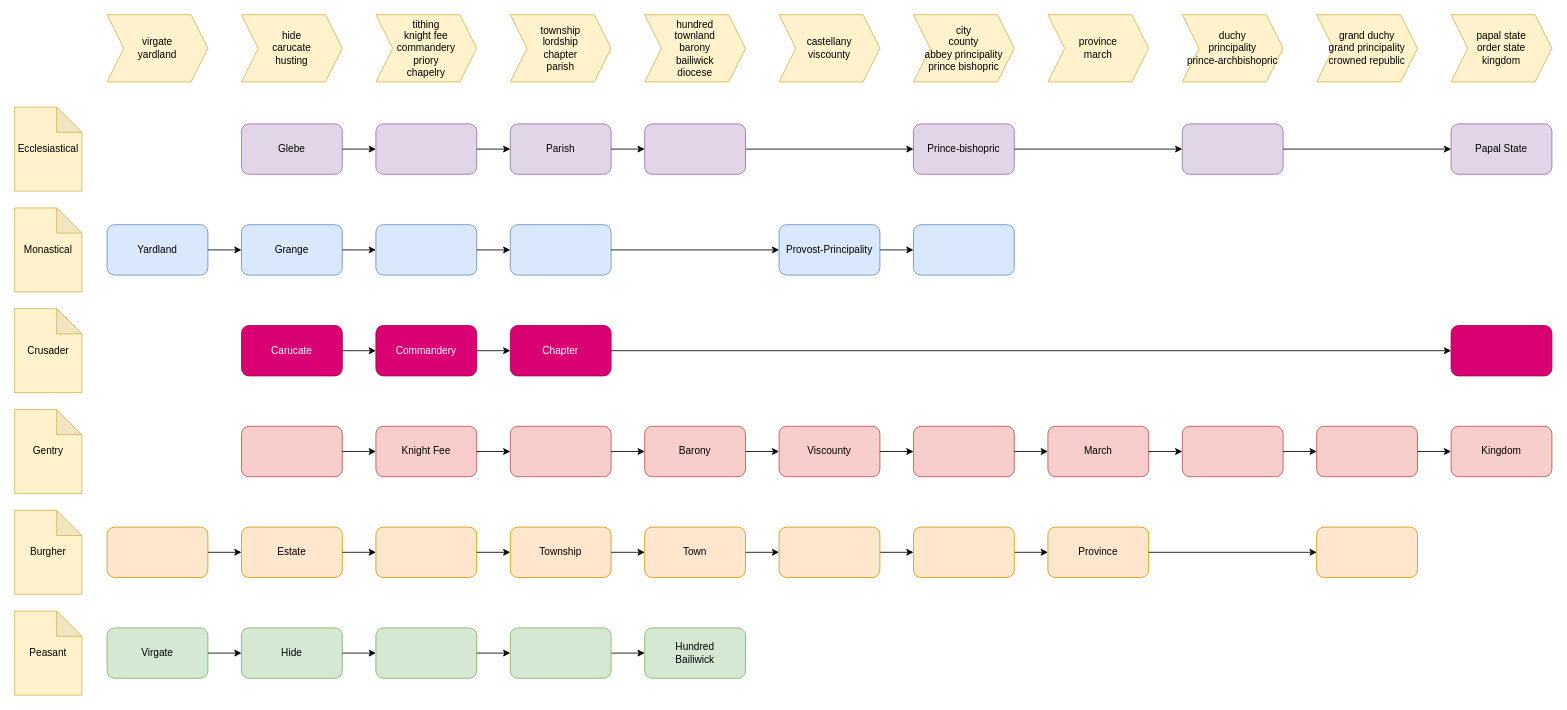
This 1567x710 diagram has some shape labels left out. Here are the shapes that lost their labels. From the top down, the centre of each, then its label:
the point at 426,148: Chapelry
the point at 695,148: Diocese Archdiocese
the point at 1232,148: Prince-archbishopric
the point at 426,249: Priory
the point at 560,249: Abbacy
the point at 963,249: Abbey-Principality
the point at 1501,350: Order State
the point at 291,451: Husting
the point at 560,451: Lordship
the point at 963,451: County
the point at 1232,451: Duchy Principality
the point at 1367,451: Grand Duchy Grand Principality
the point at 157,552: Burgage
the point at 426,552: Quarter
the point at 829,552: Castellany
the point at 963,552: City
the point at 1367,552: Crowned Republic
the point at 426,652: Tithing
the point at 560,652: Village
